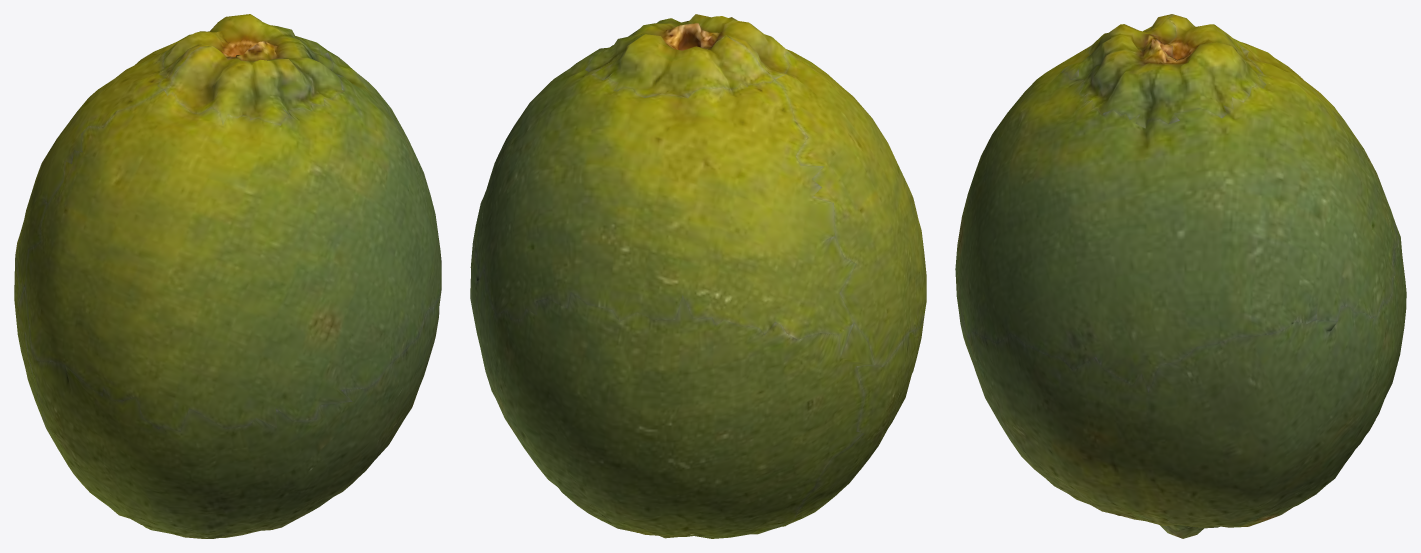
The model's file is lime.glb.
3 views of the same model, side by side, from view 1: azimuth 30°, elevation 25°; view 2: azimuth 150°, elevation 25°; view 3: azimuth 270°, elevation 25° (orthographic).
Visible parts, largest first — view 1: lime; view 2: lime; view 3: lime.
Boxes of the visible parts, bbox=[...] form: lime: bbox=[14, 14, 441, 538]; lime: bbox=[470, 14, 926, 538]; lime: bbox=[955, 14, 1406, 538].
Bounding box in the file's own units: 0.0601 × 0.0754 × 0.0613.
Materials: 1 (1 with a texture image).
